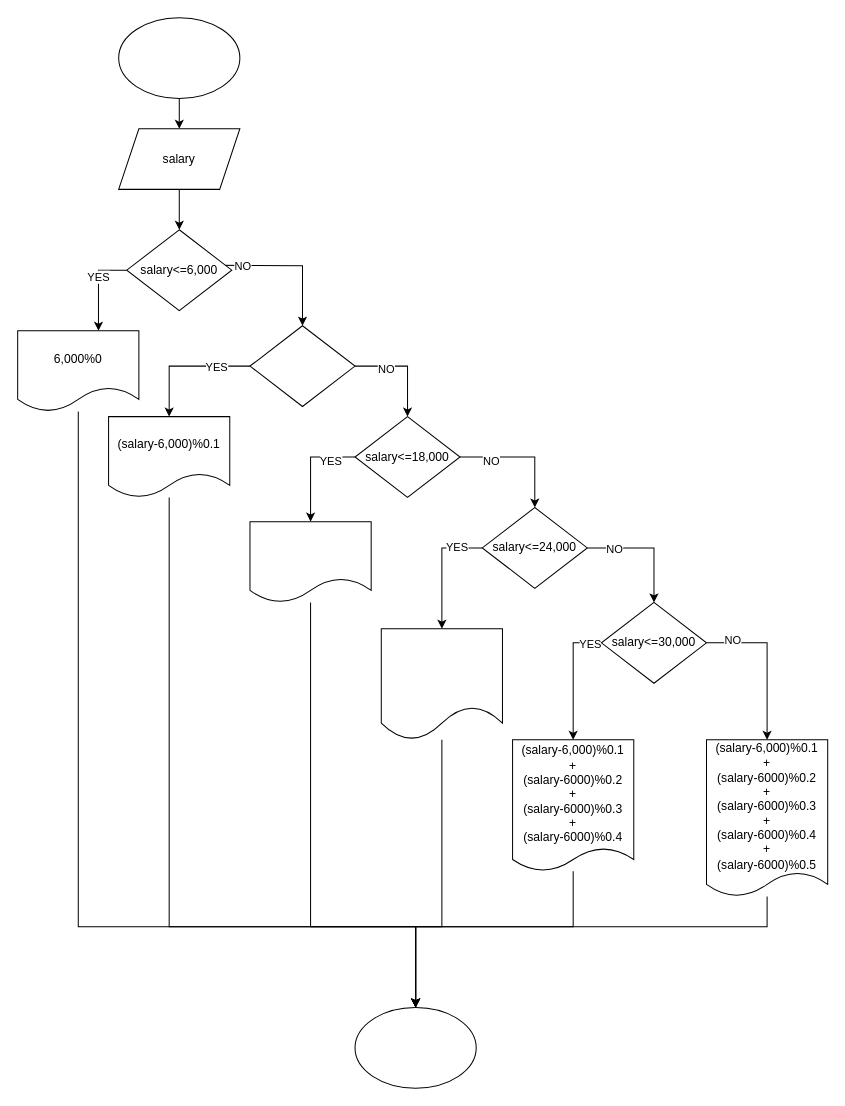
Image size: 845x1106. Some labels were removed from this diagram. The centre of each missing label's shape, as x and y in pixels:
"(salary-6,000)%0.1 + (salary-6000)%0.2" belongs at [310,561].
"(salary-6,000)%0.1 + (salary-6000)%0.2 + (salary-6000)%0.3" belongs at [441,684].
"salary<=12,000" belongs at [302,366].
"START" belongs at [179,57].
"STOP" belongs at [415,1047].
